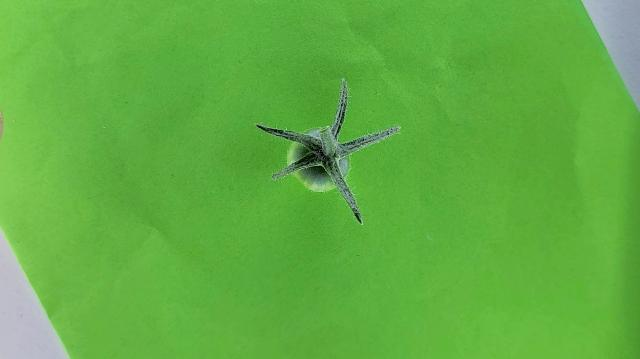Fruit Maturation: (289, 131, 351, 192)
